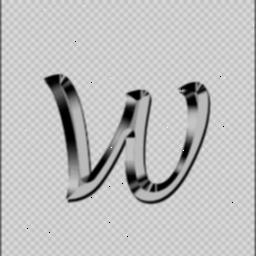w: (36, 60, 234, 214)
